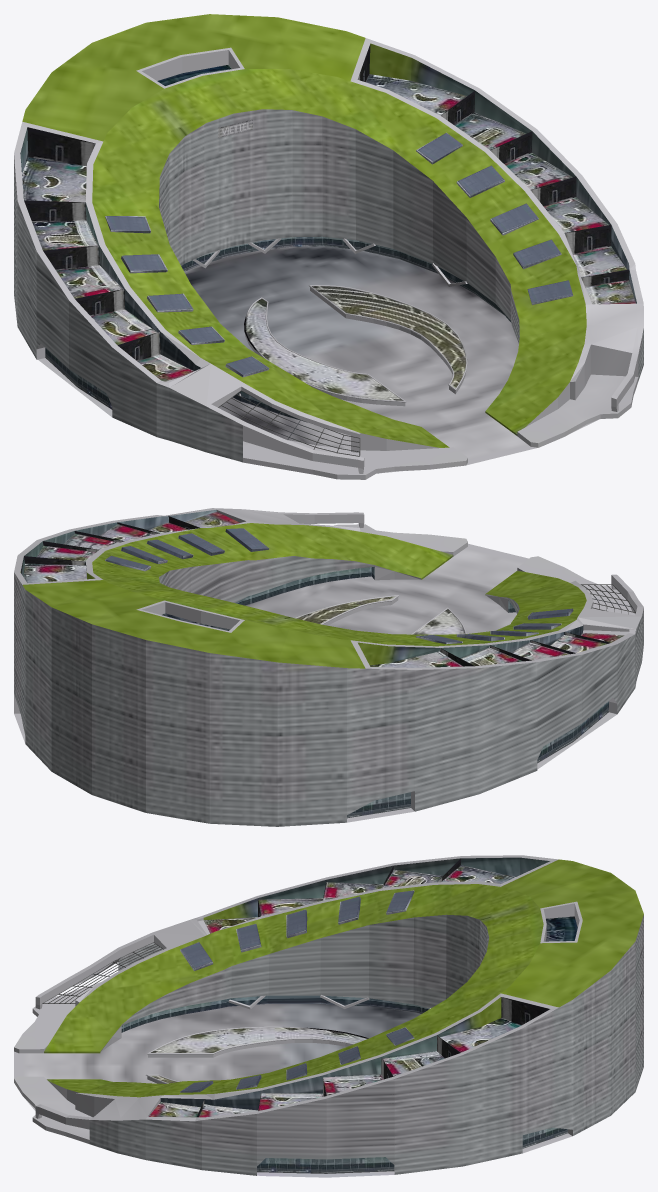
3 renders of one model, top to bottom at view 1: azimuth 30°, elevation 25°; view 2: azimuth 150°, elevation 25°; view 3: azimuth 270°, elevation 25°, orthographic. The views are drawn at different scales.
Parts seen in each view (by area): view 1: HN525_Viettel_Group; view 2: HN525_Viettel_Group; view 3: HN525_Viettel_Group.
Boxes of the visible parts, bbox=[...] form: HN525_Viettel_Group: bbox=[14, 14, 643, 479]; HN525_Viettel_Group: bbox=[14, 508, 643, 826]; HN525_Viettel_Group: bbox=[14, 855, 643, 1177].
Bounding box in the file's own units: 112 × 36.14 × 135.
1 material, 1 textured.
